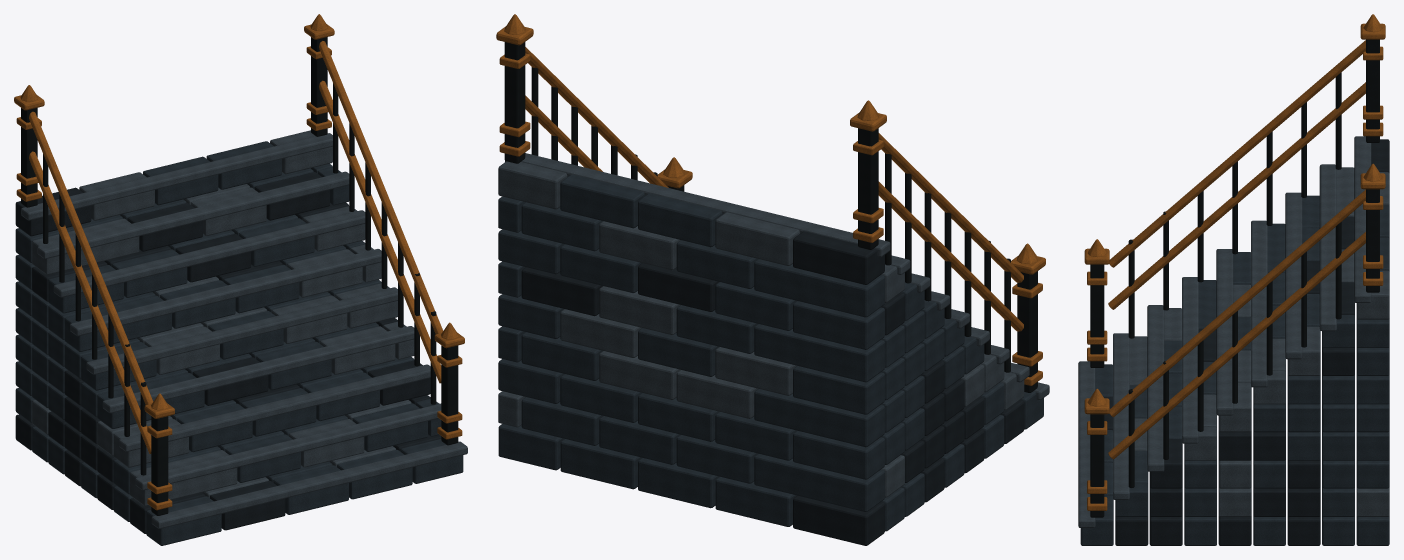
File: stairs_medium.fbx
3 views of the same model, side by side, from view 1: azimuth 30°, elevation 25°; view 2: azimuth 150°, elevation 25°; view 3: azimuth 270°, elevation 25° (orthographic). The views are drawn at different scales.
Parts seen in each view (by area): view 1: stairs_medium_stair_mass, stairs_medium_treads, stairs_medium_ironwork, stairs_medium_structure, stairs_medium_posts; view 2: stairs_medium_stair_mass, stairs_medium_ironwork, stairs_medium_structure, stairs_medium_treads, stairs_medium_posts; view 3: stairs_medium_stair_mass, stairs_medium_treads, stairs_medium_ironwork, stairs_medium_structure, stairs_medium_posts.
Part boxes in pixels (bbox=[...]): stairs_medium_stair_mass: bbox=[15, 130, 463, 545]; stairs_medium_treads: bbox=[21, 133, 467, 528]; stairs_medium_ironwork: bbox=[20, 14, 458, 475]; stairs_medium_structure: bbox=[16, 37, 462, 515]; stairs_medium_posts: bbox=[14, 24, 464, 418]; stairs_medium_stair_mass: bbox=[498, 161, 1043, 545]; stairs_medium_ironwork: bbox=[504, 14, 1038, 372]; stairs_medium_structure: bbox=[499, 42, 1042, 392]; stairs_medium_treads: bbox=[505, 153, 1049, 400]; stairs_medium_posts: bbox=[496, 26, 1045, 274]; stairs_medium_stair_mass: bbox=[1080, 139, 1389, 545]; stairs_medium_treads: bbox=[1078, 136, 1371, 527]; stairs_medium_ironwork: bbox=[1087, 14, 1382, 487]; stairs_medium_structure: bbox=[1087, 39, 1383, 517]; stairs_medium_posts: bbox=[1084, 23, 1385, 414].
Bounding box in the file's own units: 244 × 270 × 201.
5 materials, 5 textured.
